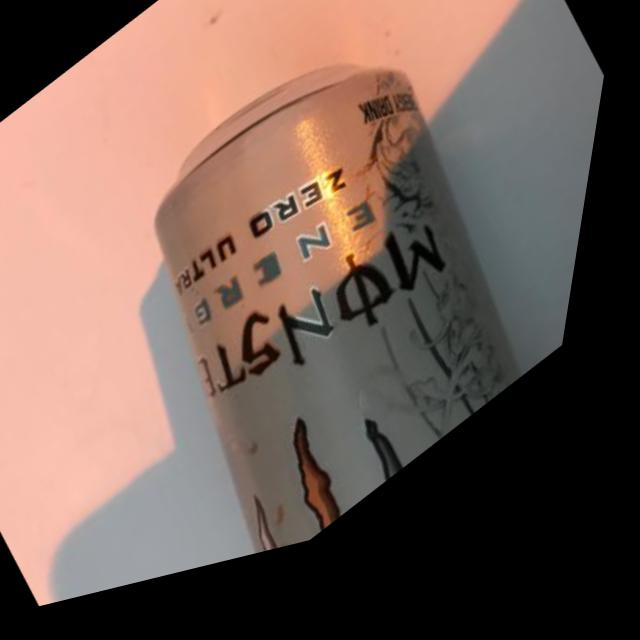metal: (15, 0, 633, 622)
